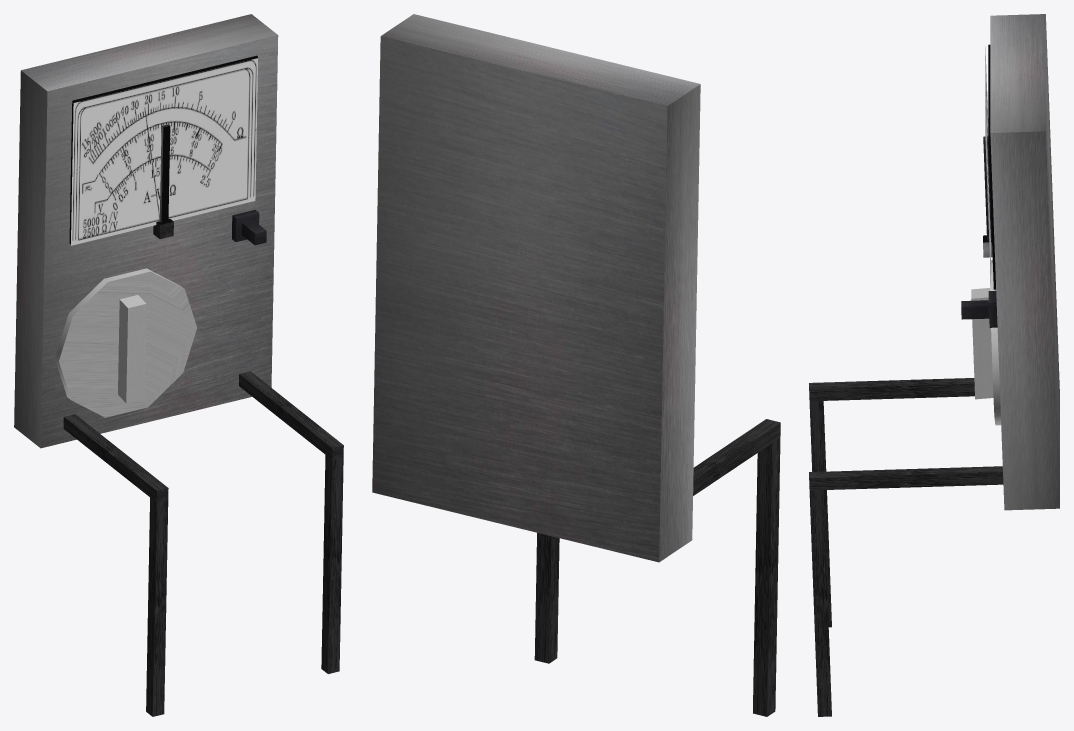
File: 电压表.glb
3 views of the same model, side by side, from view 1: azimuth 30°, elevation 25°; view 2: azimuth 150°, elevation 25°; view 3: azimuth 270°, elevation 25° (orthographic). The views are drawn at different scales.
Visible parts, largest first — view 1: 电压表; view 2: 电压表; view 3: 电压表.
Boxes of the visible parts, box(x1,y1,x2,y2) form: 电压表: box(14, 14, 343, 716); 电压表: box(372, 14, 780, 716); 电压表: box(809, 14, 1059, 716).
Bounding box in the file's own units: 1.39 × 3.3 × 1.26.
Materials: 6 (5 with a texture image).
